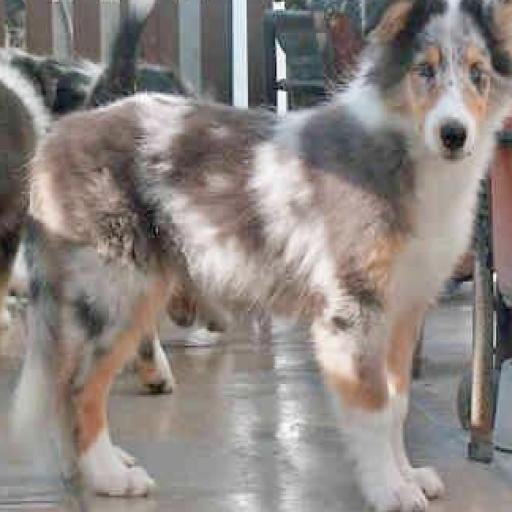dog_face: (357, 0, 512, 166)
